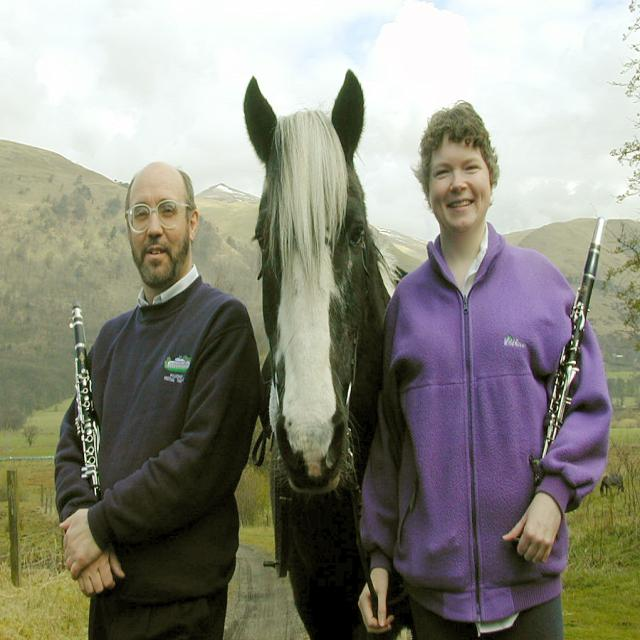clarinet: (534, 213, 606, 490), (68, 298, 109, 506)
